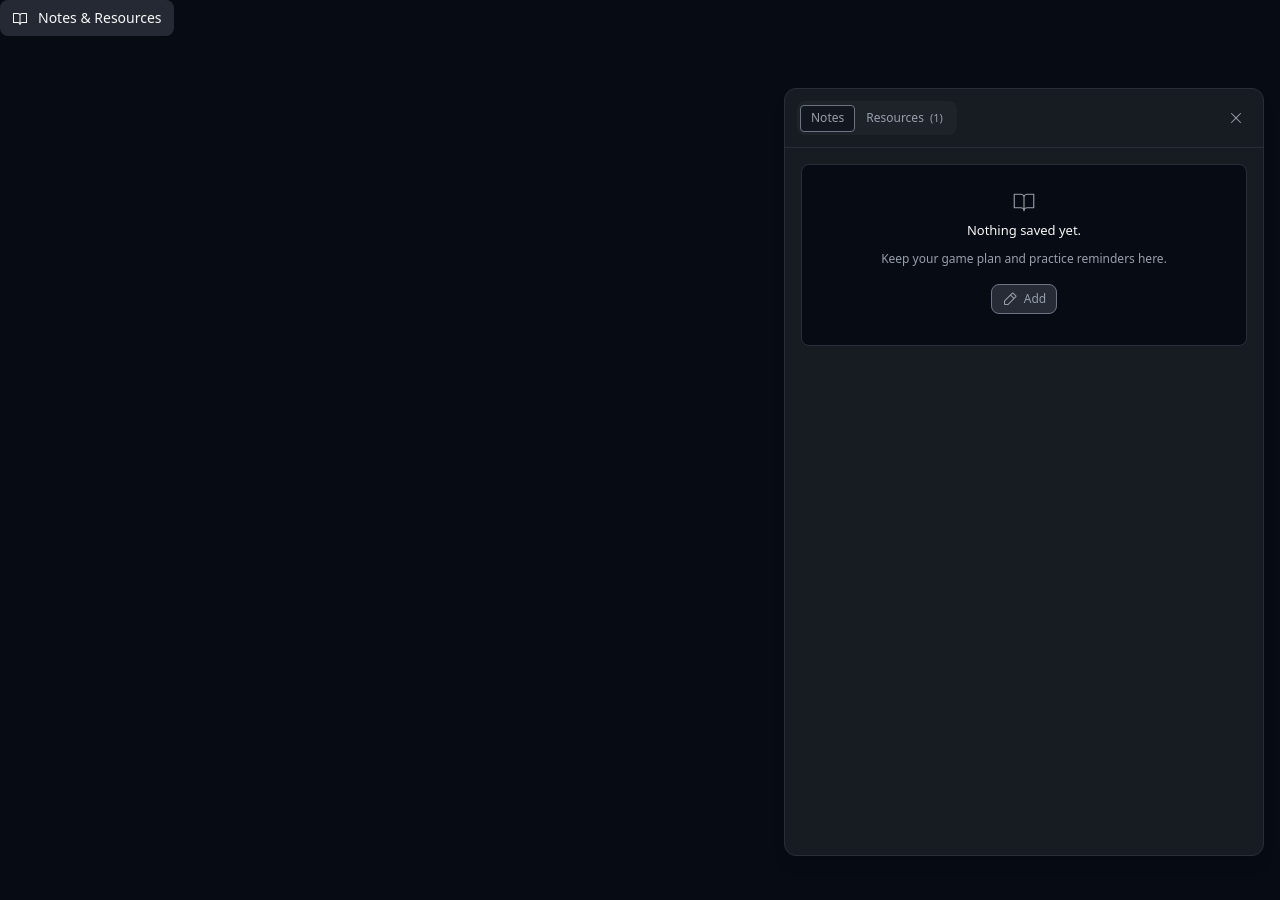
Test: EntityNotebook › retains a legacy HTTP resource and explains how to make it openable
Click the tab "Resources (1)" at (904, 118), box [855,104,954,132]
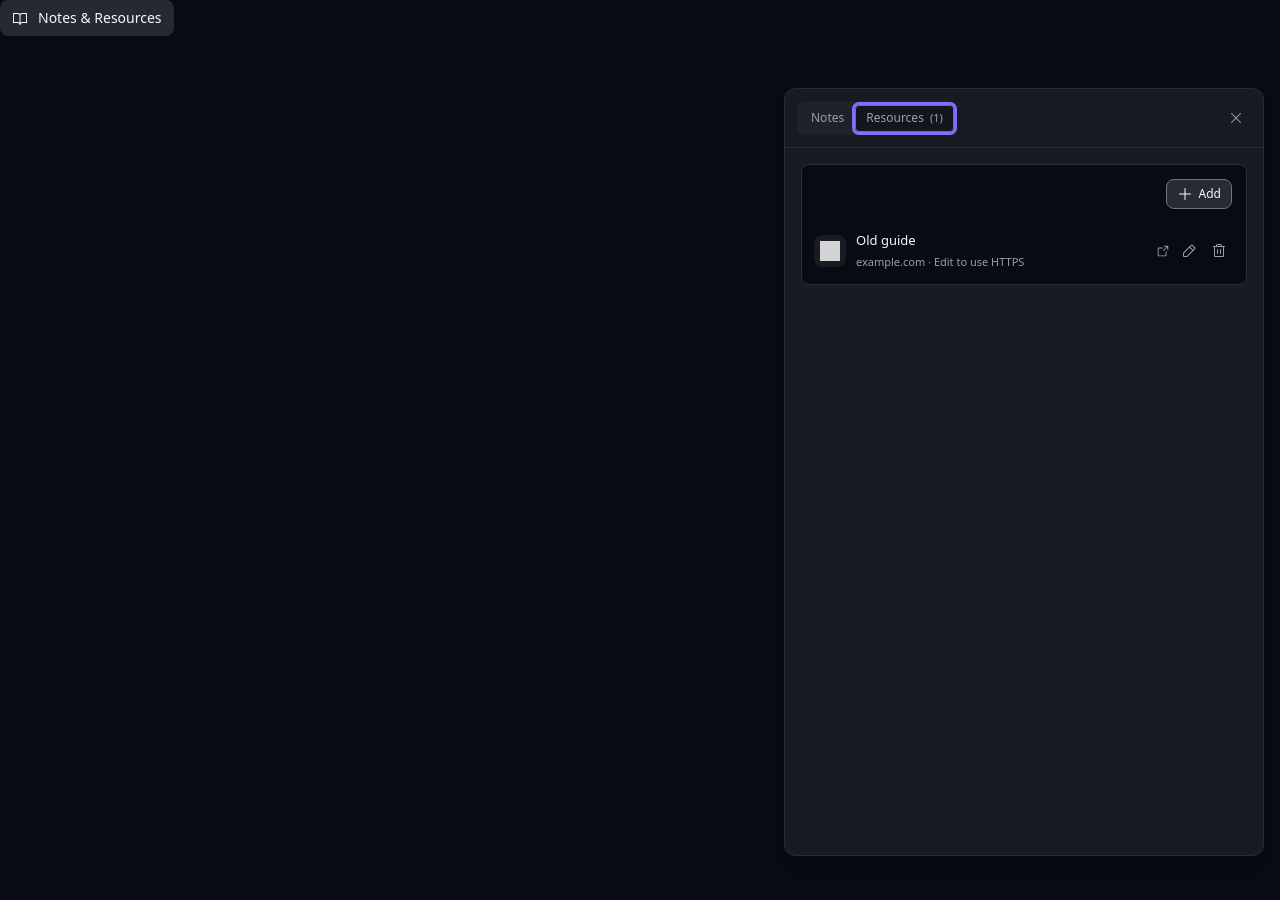
Result: the text "example.com · Edit to use HTTPS" is shown at [856,254,1024,268]
Click the link with aria-label "Open Old guide in a new tab" at (992, 250), box [814,229,1170,272]
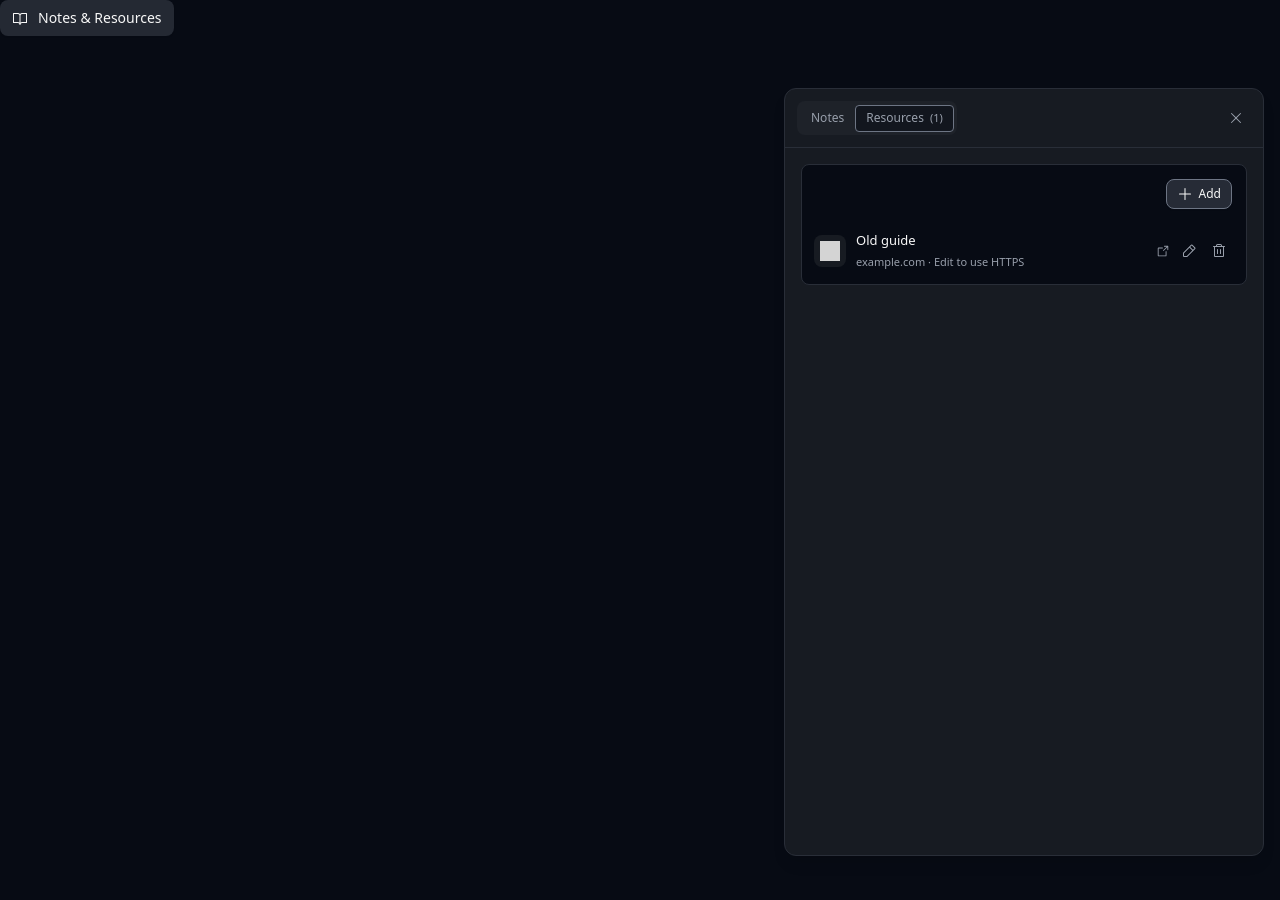
Click the button named "Edit Old guide" at (1189, 250), box [1174,236,1204,266]
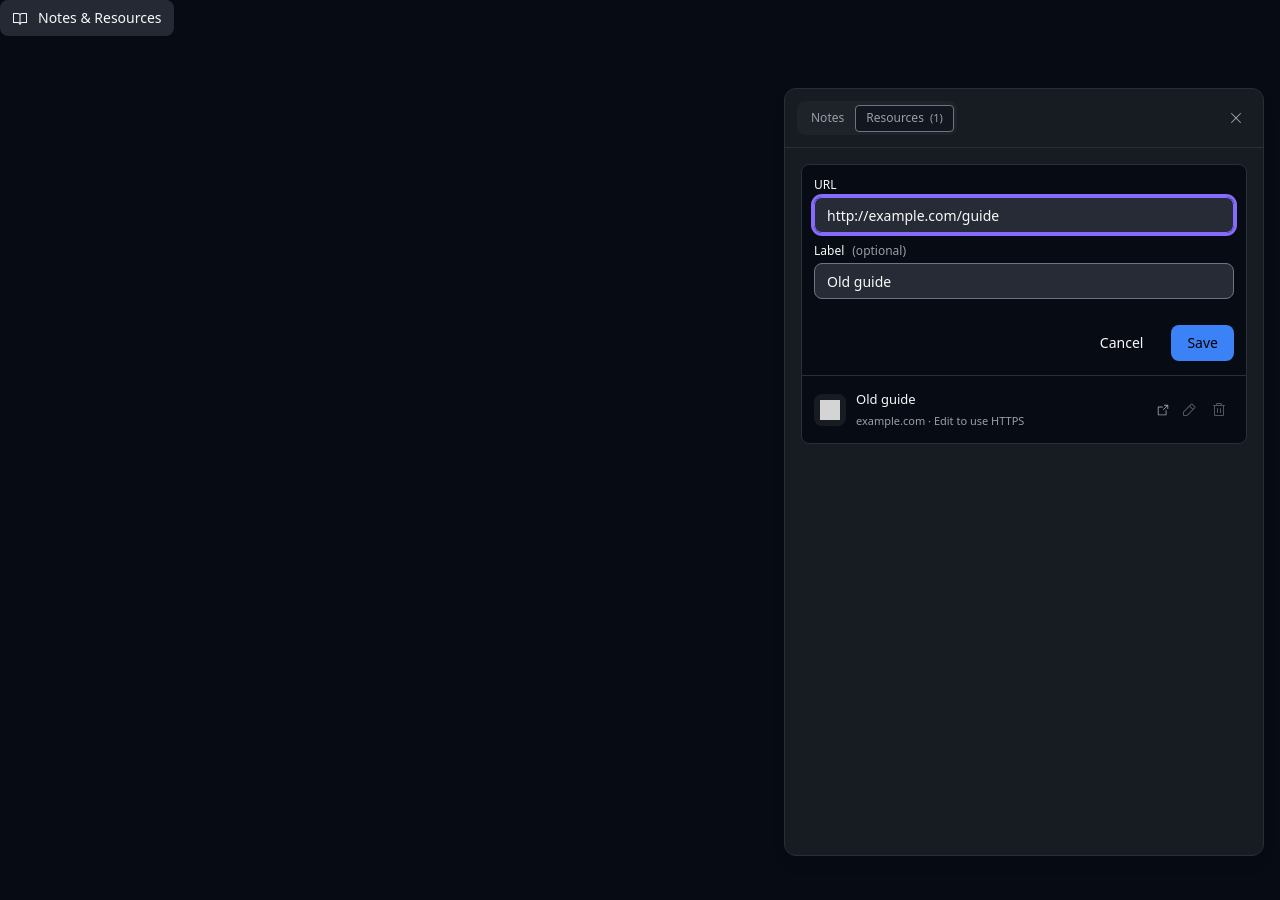
Result: the field labelled "URL" holds "http://example.com/guide" at [814,197,1234,233]
